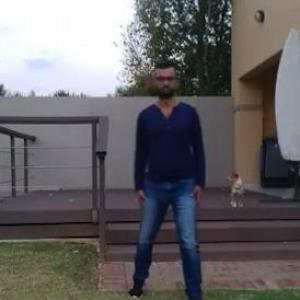follow: (132, 63, 192, 299)
